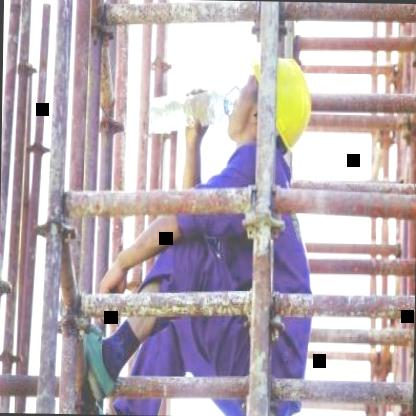helmet: (224, 48, 313, 158)
